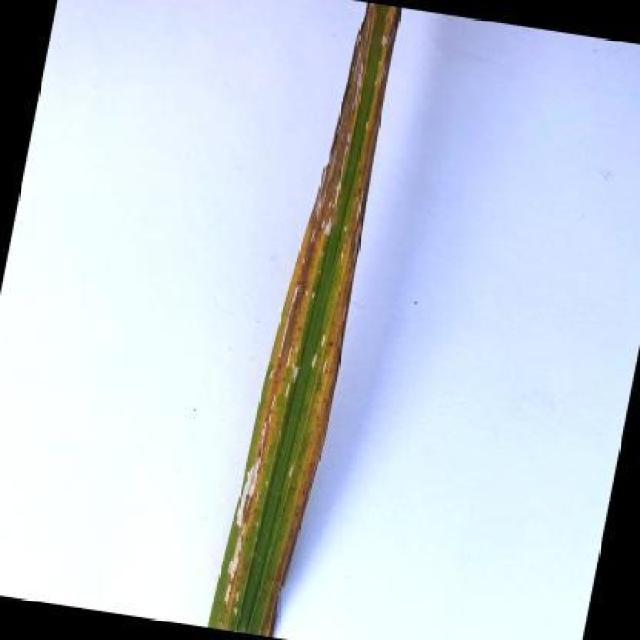Rice False Smut: (208, 4, 401, 636)
